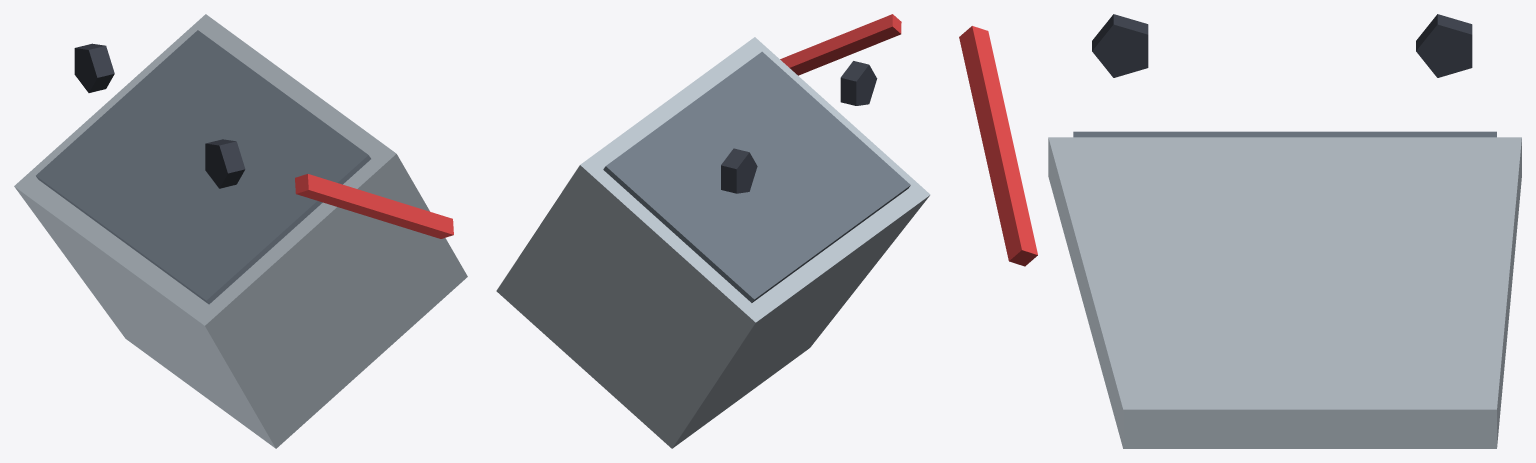
File: carrinho_mercado.glb
3 renders of one model, left to right at view 1: azimuth 30°, elevation 25°; view 2: azimuth 150°, elevation 25°; view 3: azimuth 270°, elevation 25°, orthographic. The views are drawn at different scales.
Visible parts, largest first — view 1: corpo; view 2: corpo; view 3: corpo.
Boxes of the visible parts, x1=… form: corpo: x1=14, y1=14, x2=467, y2=448; corpo: x1=496, y1=14, x2=930, y2=448; corpo: x1=959, y1=14, x2=1521, y2=448.
Bounding box in the file's own units: 0.3371 × 0.3591 × 0.4517.
